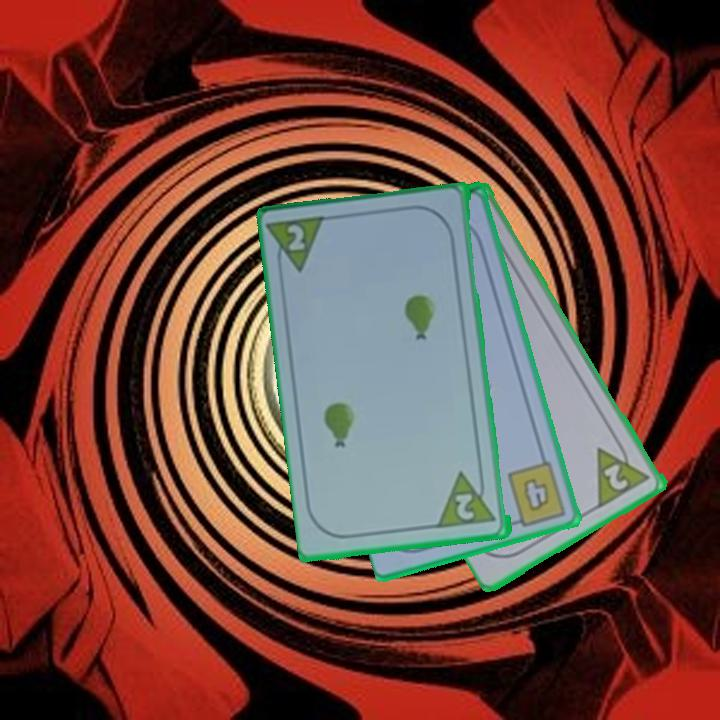2p: (593, 433, 654, 511), (452, 490, 478, 523), (284, 221, 309, 255)
4b: (504, 458, 570, 529)
